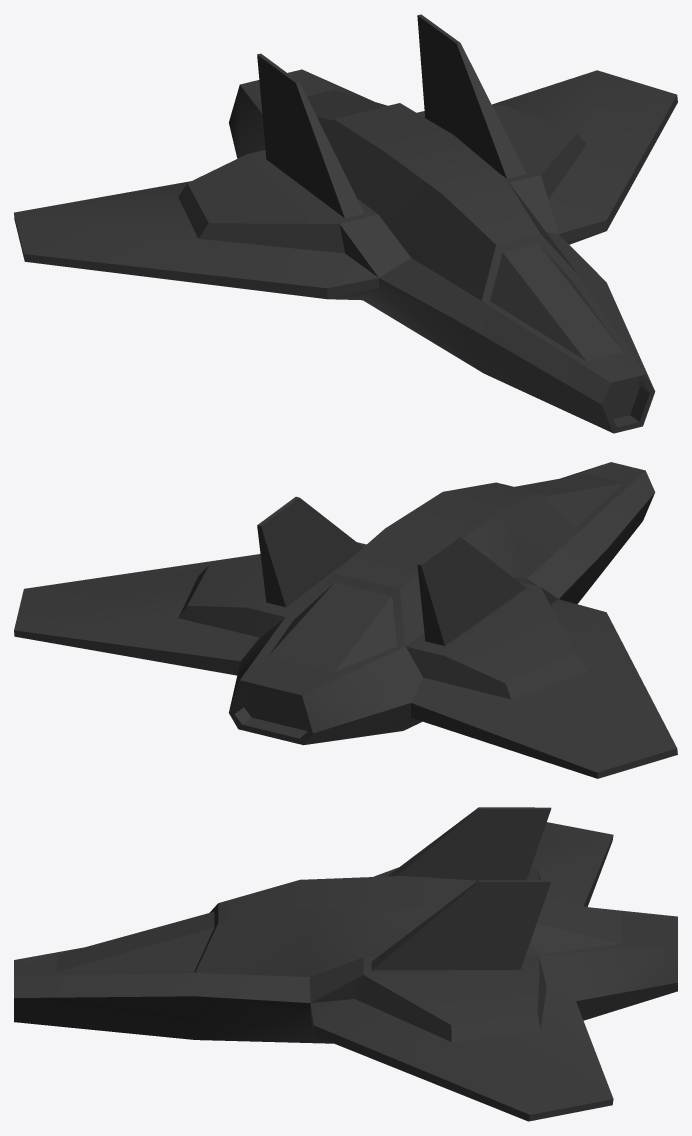
Rendered from GruntShip.fbx.
3 views of the same model, one above another, from view 1: azimuth 30°, elevation 25°; view 2: azimuth 150°, elevation 25°; view 3: azimuth 270°, elevation 25° (orthographic). The views are drawn at different scales.
Parts seen in each view (by area): view 1: node_id30; view 2: node_id30; view 3: node_id30.
Boxes of the visible parts, x1,y1,x2,y2 form: node_id30: [14, 14, 677, 433]; node_id30: [14, 462, 677, 778]; node_id30: [14, 807, 677, 1121].
Size of the model in its own units: 0.512 by 0.1403 by 0.4852.
1 material, 1 textured.
